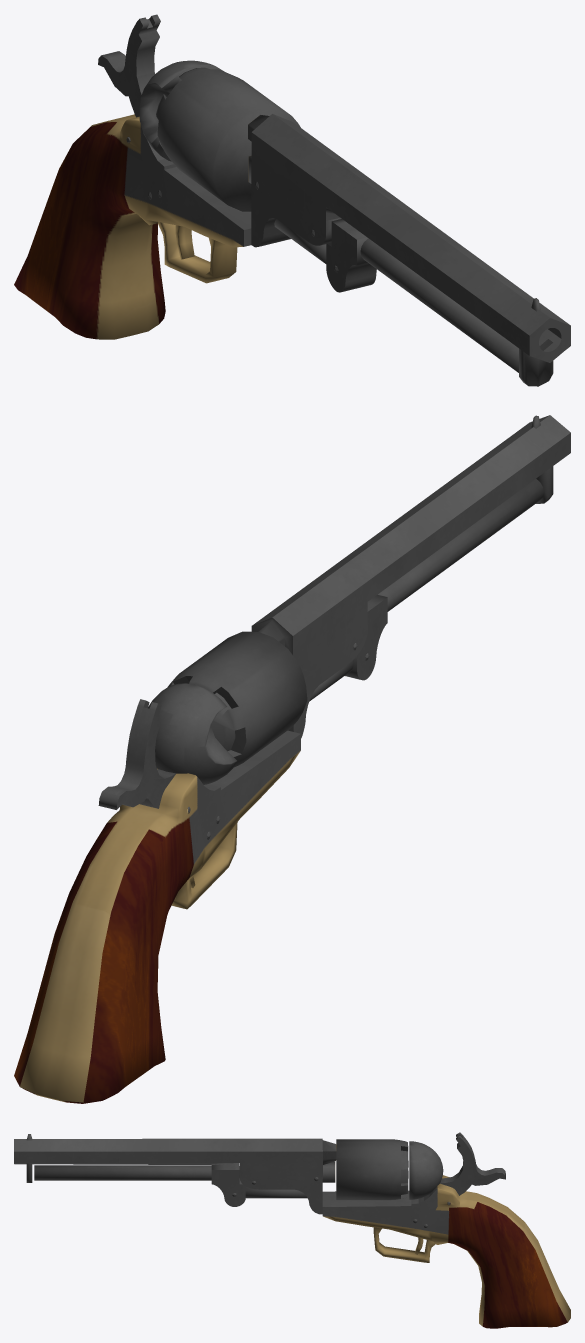
File: coltnavy1851_final.fbx
3 views of the same model, one above another, from view 1: azimuth 30°, elevation 25°; view 2: azimuth 150°, elevation 25°; view 3: azimuth 270°, elevation 25° (orthographic). The views are drawn at different scales.
Visible parts, largest first — view 1: Plane, Cylinder, Circle, Sphere, Plane.001; view 2: Plane, Cylinder, Sphere, Circle; view 3: Plane, Cylinder, Sphere, Circle.
Boxes of the visible parts, x1,y1,x2,y2 form: Plane: (14,114,570,386); Cylinder: (156,67,300,211); Circle: (98,14,160,117); Sphere: (139,60,223,161); Plane.001: (175,225,194,259); Plane: (14,415,570,1103); Cylinder: (167,631,307,767); Sphere: (148,683,236,784); Circle: (98,699,176,809); Plane: (14,1134,570,1328); Cylinder: (336,1139,408,1200); Sphere: (409,1141,443,1199); Circle: (440,1132,505,1195).
Bounding box in the file's own units: 0.5375 × 4.61 × 1.7.
3 materials, 3 textured.
